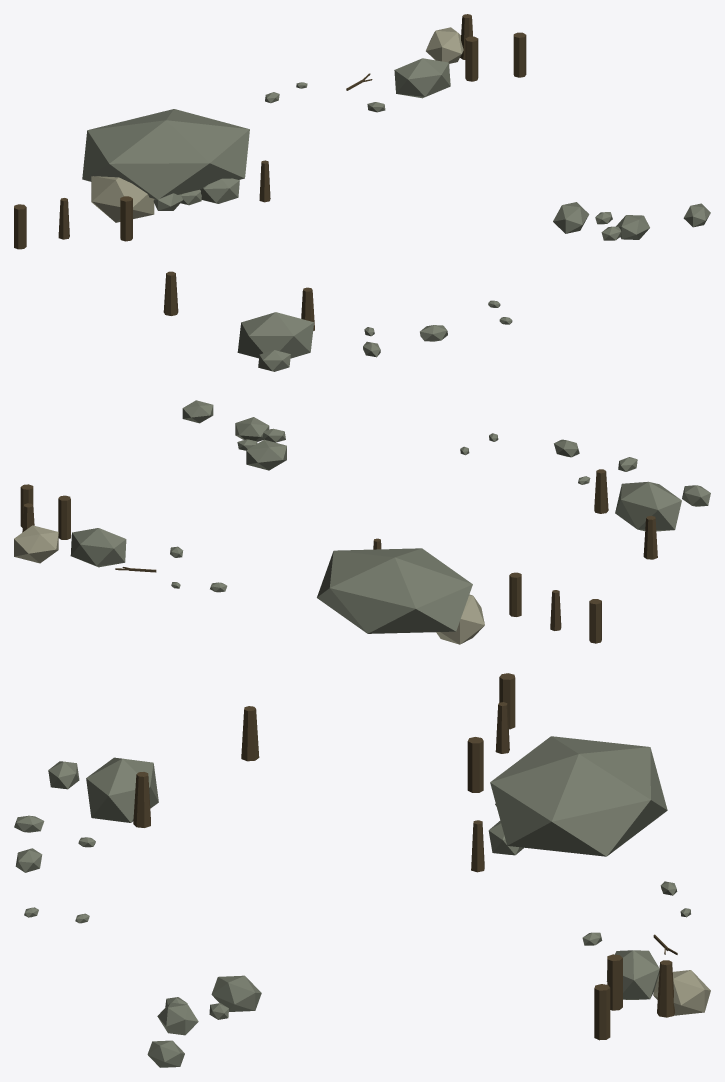
Rendered from high_ledge_gate_solid_props.fbx.
3 renders of one model, top to bottom at view 1: azimuth 30°, elevation 25°; view 2: azimuth 150°, elevation 25°; view 3: azimuth 270°, elevation 25°, orthographic. The views are drawn at different scales.
Visible parts, largest first — view 1: chunk_high_ledge_gate__PropsSolid; view 2: chunk_high_ledge_gate__PropsSolid; view 3: chunk_high_ledge_gate__PropsSolid.
Boxes of the visible parts, x1=… form: chunk_high_ledge_gate__PropsSolid: x1=14, y1=14, x2=710, y2=371; chunk_high_ledge_gate__PropsSolid: x1=14, y1=400, x2=710, y2=644; chunk_high_ledge_gate__PropsSolid: x1=14, y1=673, x2=710, y2=1067.
Size of the model in its own units: 206 by 31.85 by 178.
